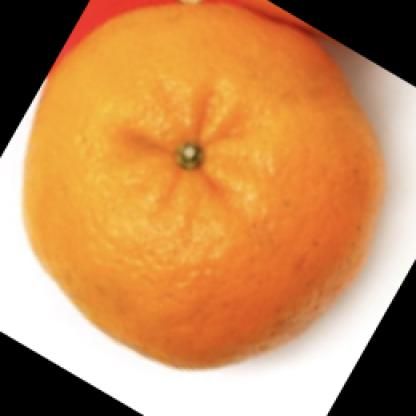fresh: (27, 3, 379, 373)
